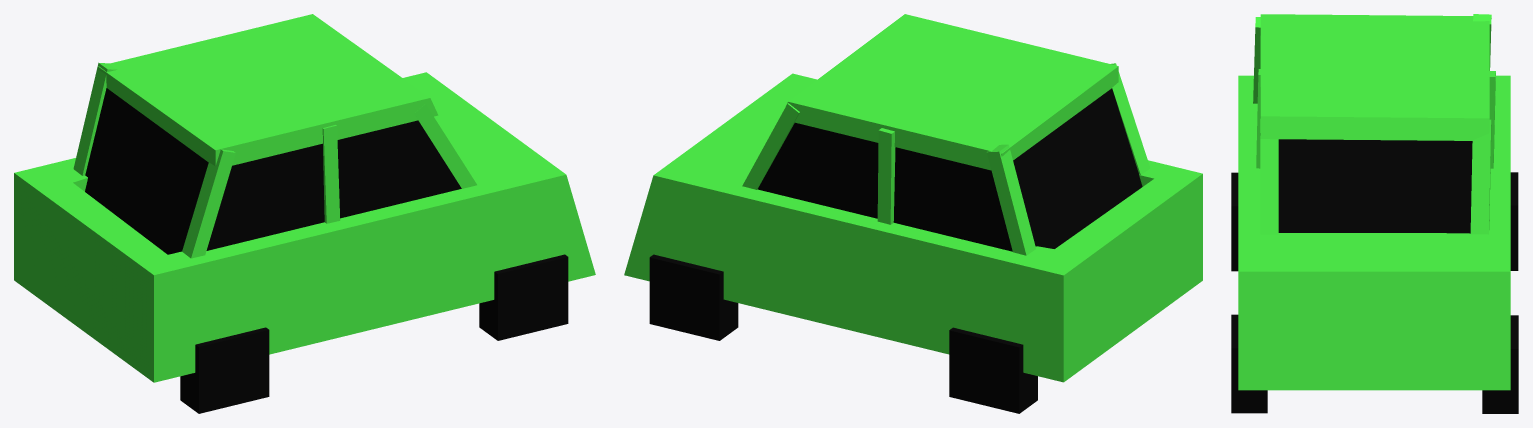
The model's file is gCar.fbx.
3 renders of one model, left to right at view 1: azimuth 30°, elevation 25°; view 2: azimuth 150°, elevation 25°; view 3: azimuth 270°, elevation 25°, orthographic. The views are drawn at different scales.
Parts seen in each view (by area): view 1: CarBody.001, CarBody.002, carwind, Cube.003, Cube.002, Cube.008, Cube.007, Cube.009, Cube.001; view 2: CarBody.001, CarBody.002, carwind, Cube.004, Cube.005, Cube.007, Cube.010, Cube.006, Cube.008; view 3: CarBody.001, CarBody.002, carwind, Cube.006, Cube.001, Cube.004, Cube.003, Cube.005, Cube.002, Cube.010, Cube.008, Cube.009.
Boxes of the visible parts, x1,y1,x2,y2 form: CarBody.001: [14, 72, 595, 382]; CarBody.002: [98, 14, 438, 165]; carwind: [85, 88, 461, 254]; Cube.003: [479, 254, 568, 340]; Cube.002: [180, 327, 269, 413]; Cube.008: [182, 149, 235, 258]; Cube.007: [73, 62, 116, 175]; Cube.009: [322, 125, 340, 223]; Cube.001: [414, 104, 476, 188]; CarBody.001: [624, 73, 1202, 382]; CarBody.002: [786, 14, 1118, 170]; carwind: [757, 88, 1142, 251]; Cube.004: [649, 254, 738, 340]; Cube.005: [949, 327, 1037, 413]; Cube.007: [986, 144, 1035, 255]; Cube.010: [877, 128, 895, 224]; Cube.006: [742, 103, 799, 189]; Cube.008: [1111, 63, 1150, 174]; CarBody.001: [1238, 75, 1510, 390]; CarBody.002: [1260, 14, 1489, 140]; carwind: [1278, 139, 1472, 233]; Cube.006: [1470, 119, 1491, 234]; Cube.001: [1260, 119, 1278, 234]; Cube.004: [1482, 315, 1518, 413]; Cube.003: [1231, 314, 1267, 413]; Cube.005: [1510, 172, 1518, 270]; Cube.002: [1231, 172, 1238, 271]; Cube.010: [1489, 71, 1495, 168]; Cube.008: [1253, 17, 1260, 103]; Cube.009: [1256, 69, 1260, 168].
Bounding box in the file's own units: 401 × 213 × 232.
